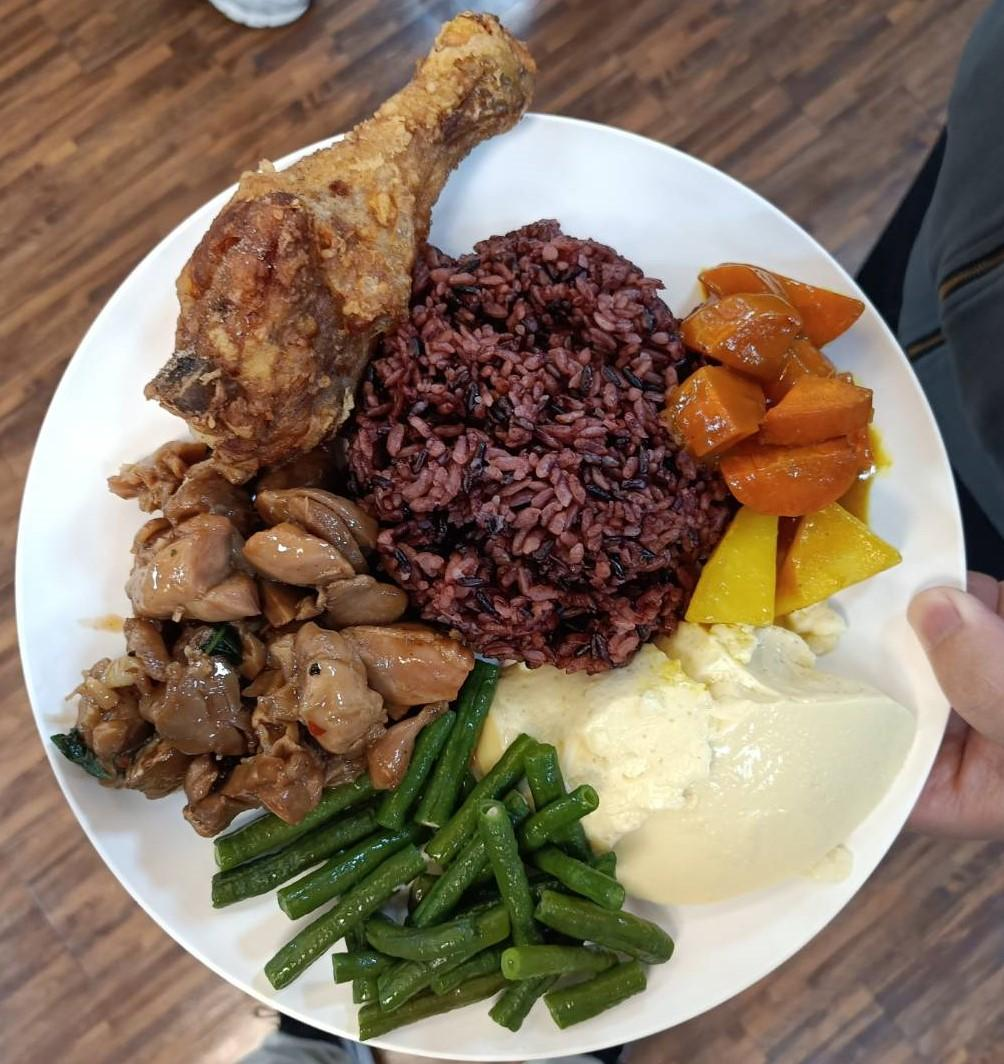big fried chicken leg: (4, 103, 976, 1061)
braised fish: (350, 215, 713, 681)
braised fish fillet: (218, 651, 670, 1028), (474, 610, 918, 911), (678, 240, 900, 633)
braised pork: (140, 16, 548, 479), (61, 446, 468, 823)
